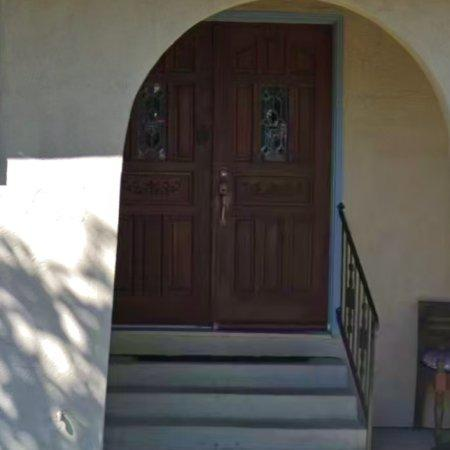stairs: (104, 330, 368, 450)
